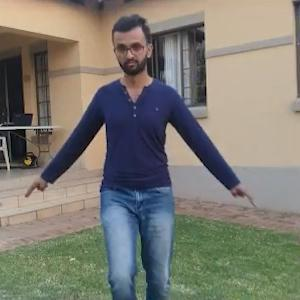land: (80, 53, 197, 255)
